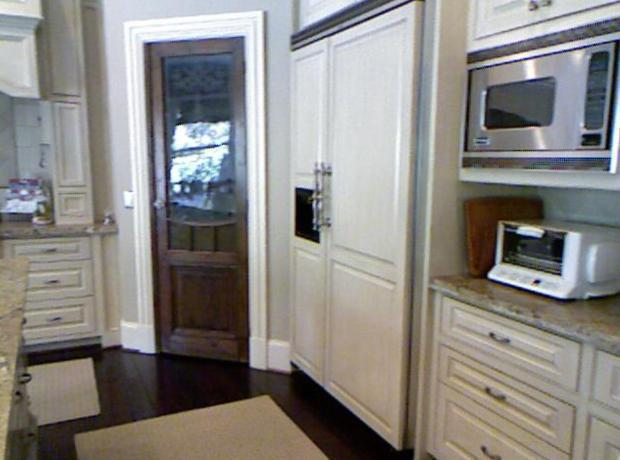Electrodomestico: (287, 6, 415, 450)
